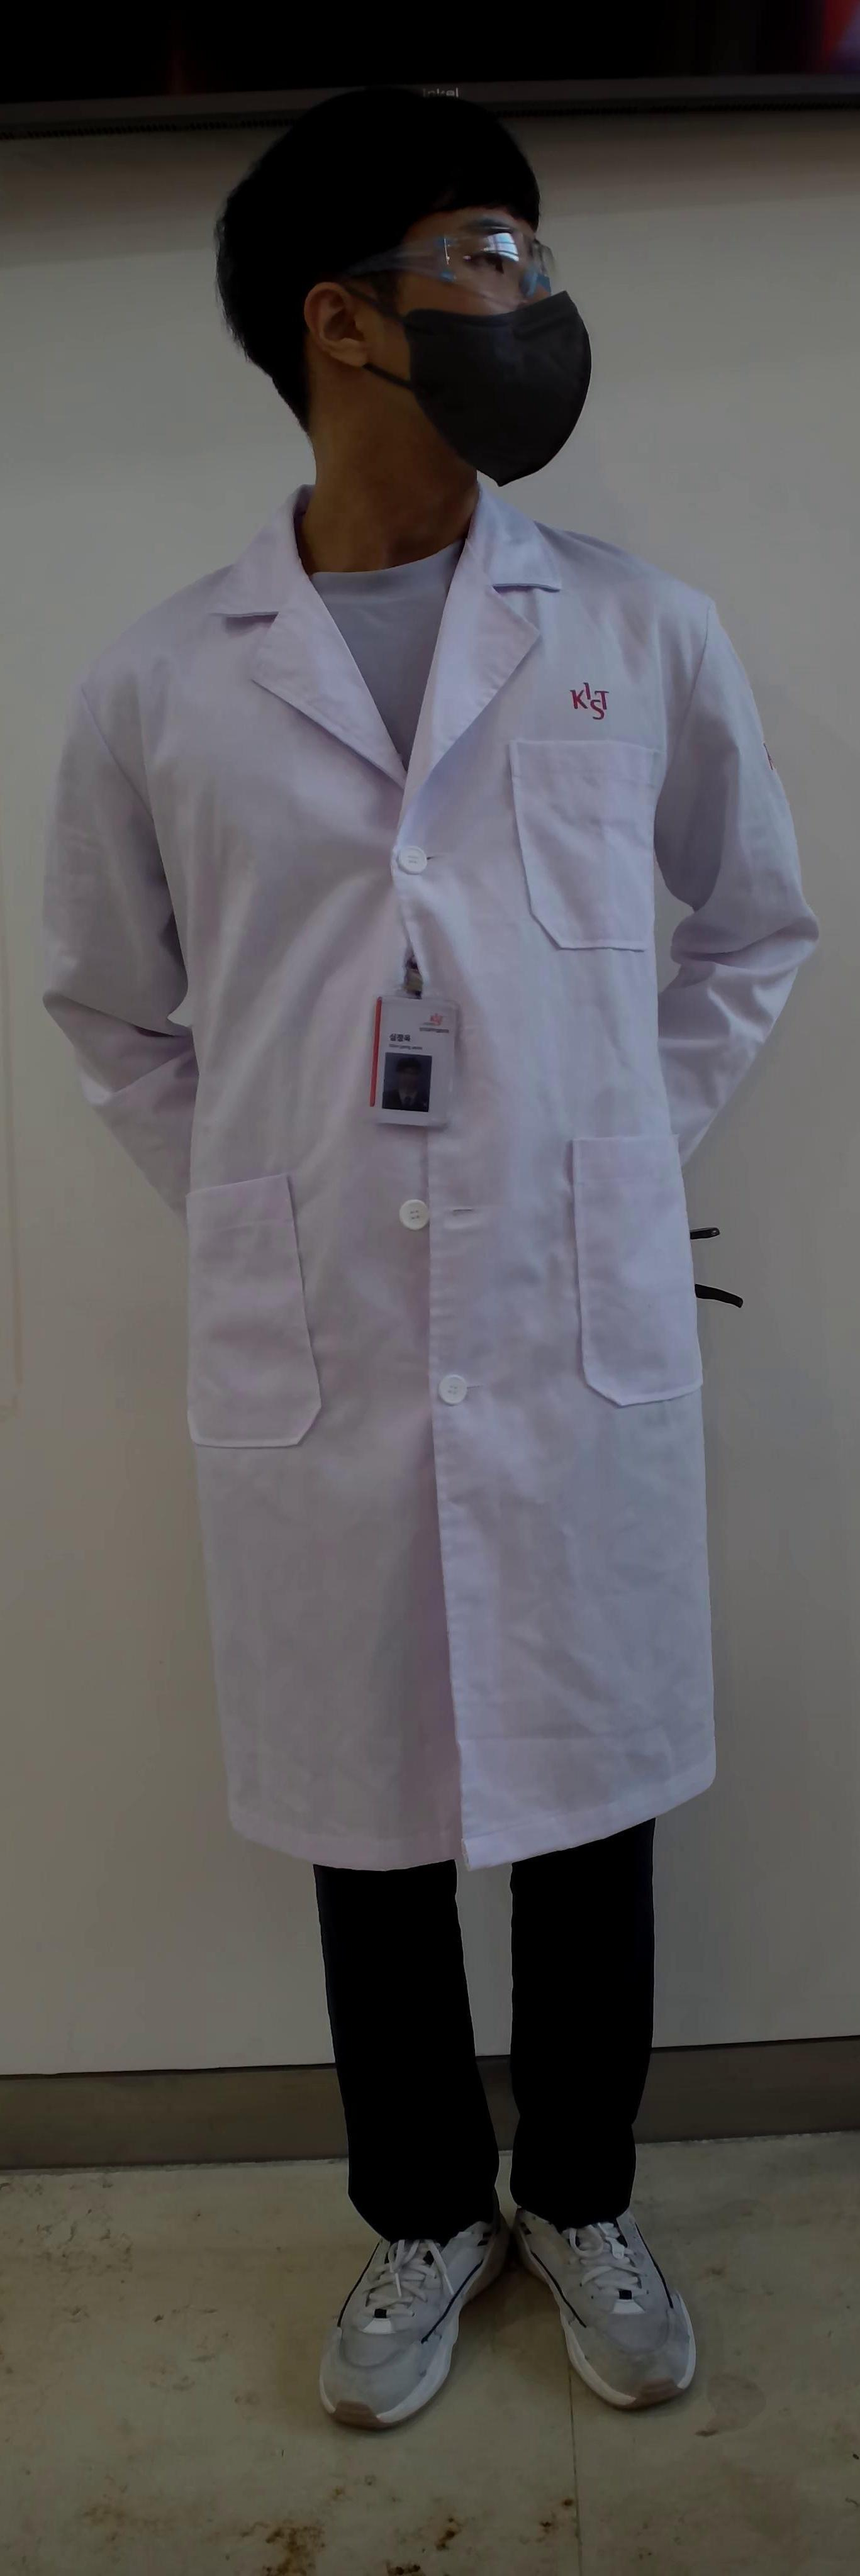lab_coat: (8, 580, 781, 1843)
